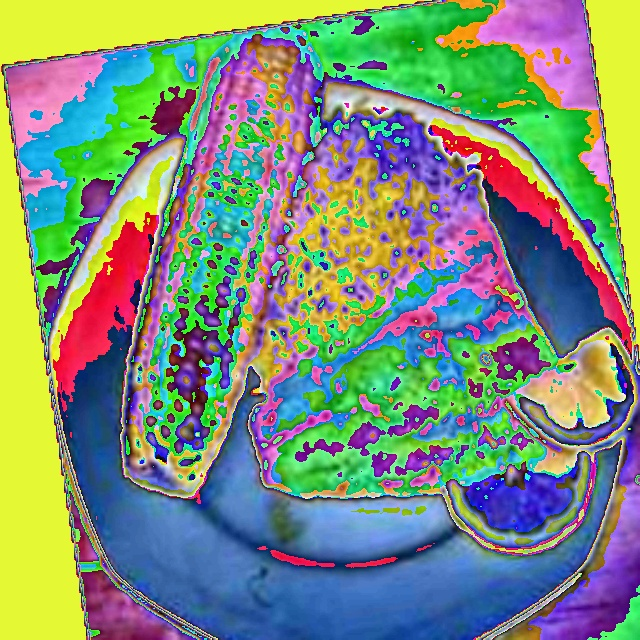background: (115, 23, 639, 552)
